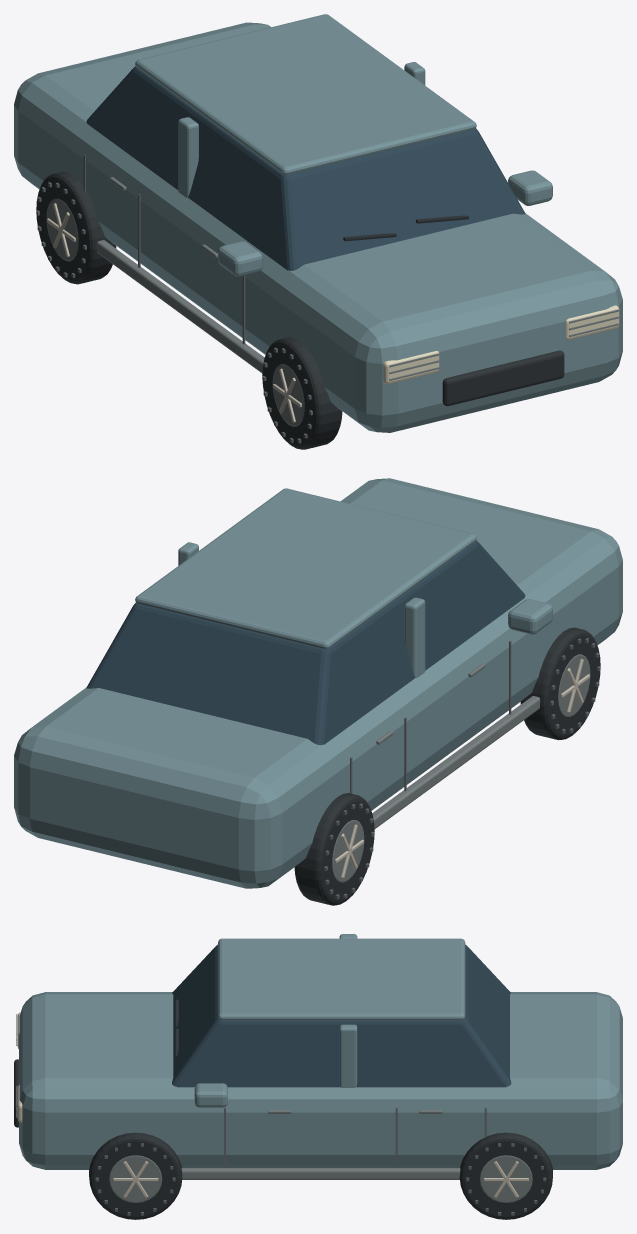
Rendered from car-detailed-extreme.glb.
The picture shows the model from 3 angles, top to bottom: view 1: azimuth 30°, elevation 25°; view 2: azimuth 150°, elevation 25°; view 3: azimuth 270°, elevation 25°; orthographic projection. The views are drawn at different scales.
Visible parts, largest first — view 1: paint, glass, rubber, frame, lamp, roof.001, stone; view 2: paint, glass, rubber, frame, roof.001, stone; view 3: paint, glass, rubber, frame, stone, roof.001.
Part boxes in pixels (box(x1,y1,x2,y2)): paint: box(14, 14, 622, 432); glass: box(86, 66, 525, 270); rubber: box(36, 171, 564, 449); frame: box(46, 177, 618, 426); lamp: box(383, 305, 619, 384); roof.001: box(36, 154, 312, 443); stone: box(47, 203, 301, 422); paint: box(14, 478, 622, 888); glass: box(86, 540, 525, 745); rubber: box(294, 627, 600, 905); frame: box(332, 654, 590, 882); roof.001: box(324, 638, 600, 899); stone: box(335, 659, 589, 878); paint: box(19, 934, 622, 1169); glass: box(172, 944, 511, 1087); rubber: box(14, 999, 552, 1219); frame: box(16, 1014, 532, 1203); stone: box(113, 1161, 528, 1197); roof.001: box(95, 1108, 546, 1215).
Bounding box in the file's own units: 2.2 × 1.51 × 4.44.
